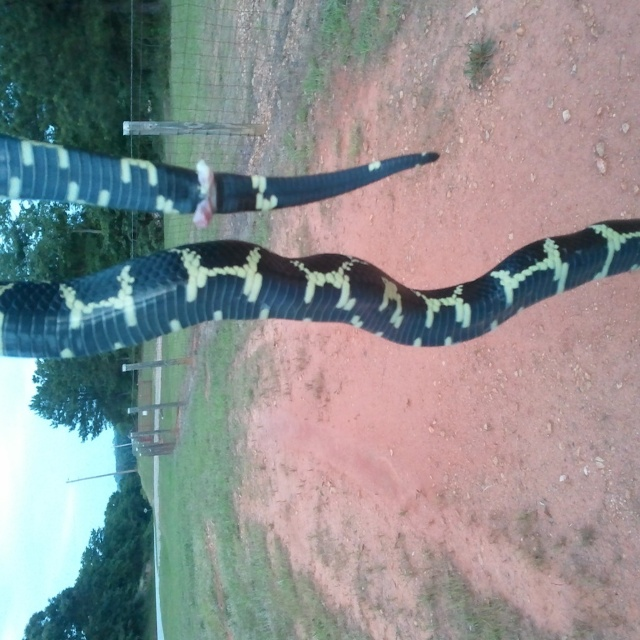Snake: (0, 134, 640, 348)
